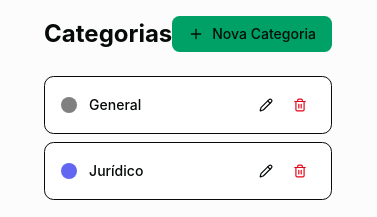
CategoriesPage › shows inline confirm when trash button is clicked
Step 1. Click the button with class "lucide-trash-2" → (300, 105), box [285,89,315,121]
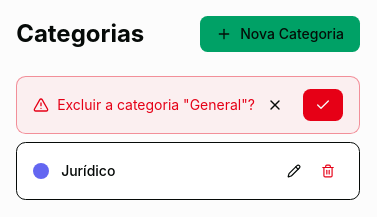
Check: the text "Excluir a categoria \"General\"?" is shown, box [57,95,255,115]
